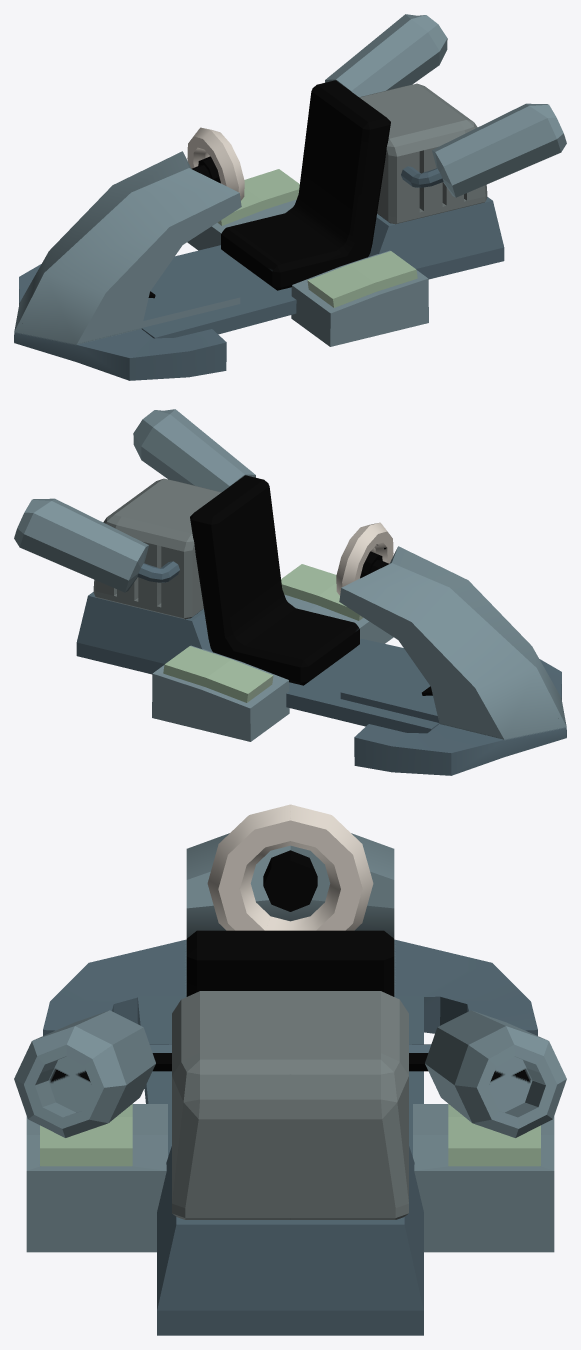
File: kart.glb
3 renders of one model, top to bottom at view 1: azimuth 30°, elevation 25°; view 2: azimuth 150°, elevation 25°; view 3: azimuth 270°, elevation 25°, orthographic. The views are drawn at different scales.
Parts seen in each view (by area): view 1: Head, Chair, Boosters, Side, Base, Engine, Base_plate, Steering_wheel; view 2: Head, Chair, Boosters, Side, Base, Engine, Base_plate, Steering_wheel; view 3: Engine, Base, Side, Boosters, Head, Chair, Steering_wheel, Steering_inside.
Part boxes in pixels (x1,y1,x2,y2): Head: [14, 151, 241, 380]; Chair: [221, 80, 390, 290]; Boosters: [325, 14, 566, 197]; Side: [187, 169, 428, 346]; Base: [141, 197, 504, 338]; Engine: [359, 83, 487, 224]; Base_plate: [141, 256, 240, 328]; Steering_wheel: [187, 127, 244, 200]; Head: [339, 546, 566, 775]; Chair: [190, 475, 359, 685]; Boosters: [14, 409, 255, 592]; Side: [152, 564, 393, 741]; Base: [76, 592, 439, 733]; Engine: [93, 478, 221, 619]; Base_plate: [340, 651, 439, 722]; Steering_wheel: [336, 522, 393, 595]; Engine: [172, 991, 408, 1219]; Base: [137, 995, 423, 1335]; Side: [26, 1104, 554, 1252]; Boosters: [14, 1010, 566, 1137]; Head: [43, 833, 537, 1035]; Chair: [186, 930, 394, 996]; Steering_wheel: [207, 804, 373, 930]; Steering_inside: [263, 850, 317, 911].
Bounding box in the file's own units: 9.89 × 3.53 × 5.33.
1 material, 1 textured.
